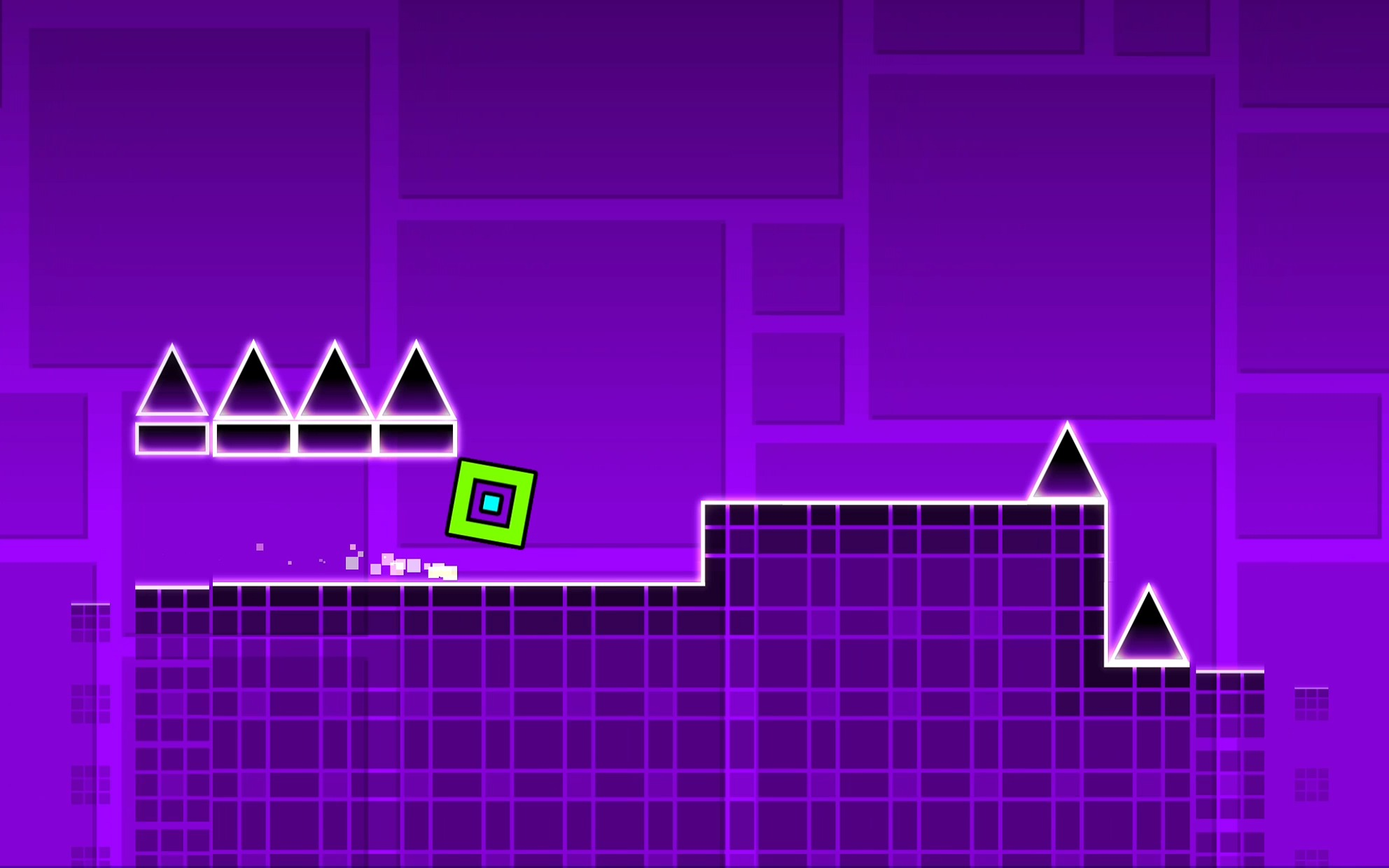Block2: (145, 586, 1111, 868), (1109, 667, 1288, 868), (700, 503, 1104, 590)
Block3: (297, 416, 372, 456), (380, 421, 456, 456), (214, 424, 291, 456), (136, 423, 210, 455)
Player: (446, 458, 534, 545)
Spike: (1031, 424, 1111, 504), (1112, 585, 1189, 666), (218, 341, 293, 418), (380, 342, 454, 418), (298, 341, 371, 417), (137, 345, 207, 415)
